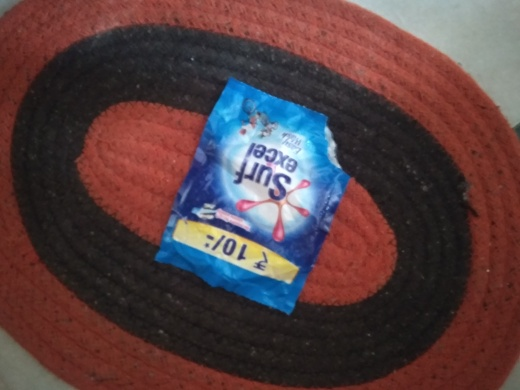surf: (174, 76, 346, 318)
